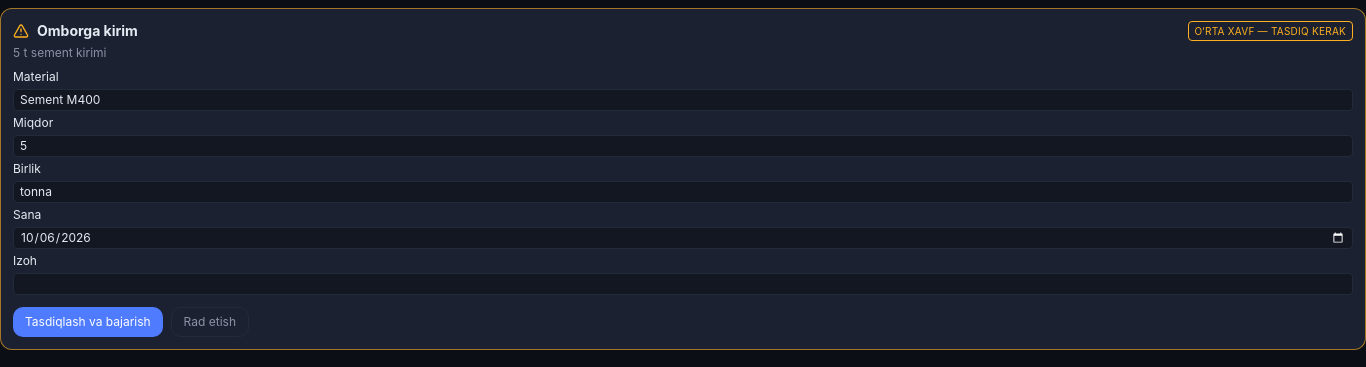
Scenario: AiHarakatKarta — qaror foydalanuvchida › rad etish: gateway/ombor chaqirilmaydi, qaror yoziladi
What coordinates should you click on to do the following:
click the button "Rad etish"
I would click on:
 (210, 322)
Its box is [171,307,249,337].
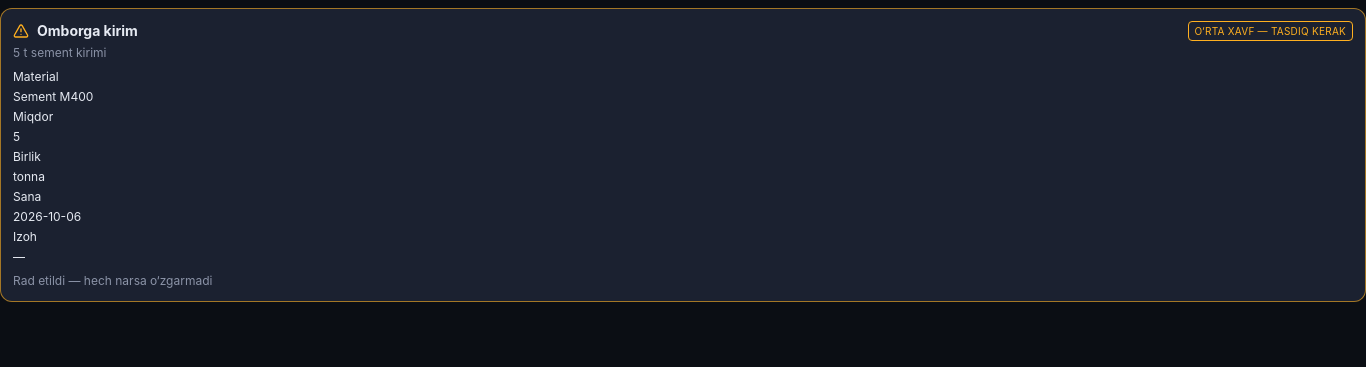
Now the text "Rad etildi — hech narsa o‘zgarmadi" is shown, box [13,273,212,288]
